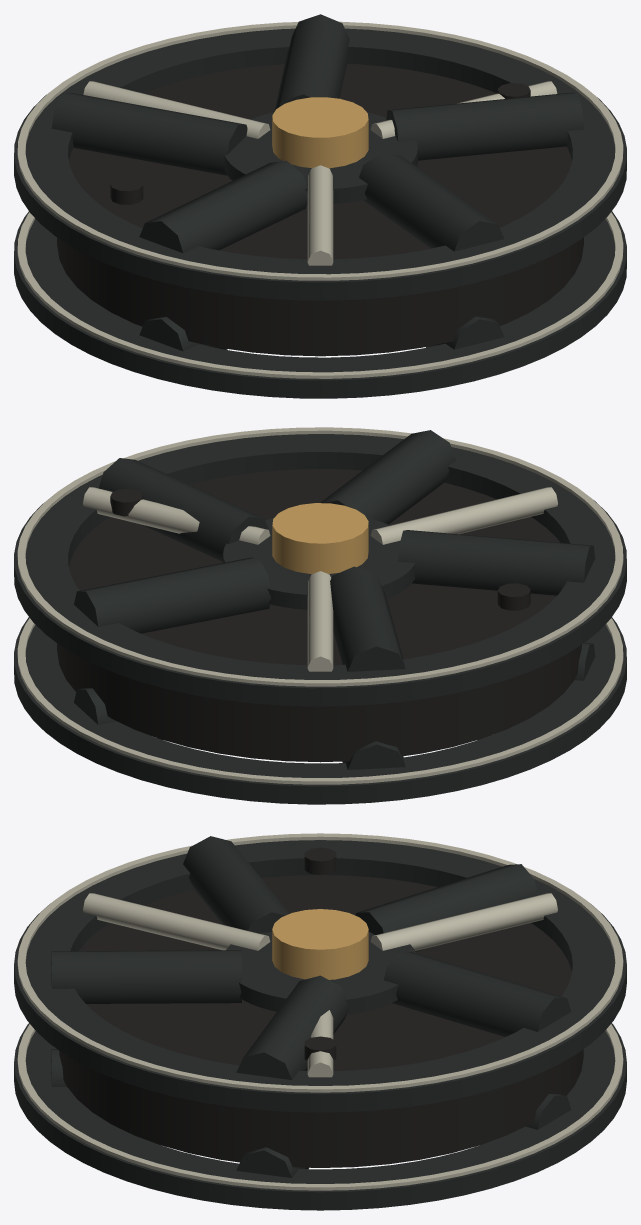
The model's file is Atelier.glb.
3 renders of one model, top to bottom at view 1: azimuth 30°, elevation 25°; view 2: azimuth 150°, elevation 25°; view 3: azimuth 270°, elevation 25°, orthographic.
Parts seen in each view (by area): view 1: Stamped outer rim (×2), Wound correction stock, Pressed web (×7), Pressed lip (×2), Spindle, Raised spoke (×3), Spool hub, Take-up pin; view 2: Stamped outer rim (×2), Wound correction stock, Pressed web (×7), Pressed lip (×2), Raised spoke (×3), Spindle, Spool hub, Take-up pin (×2); view 3: Stamped outer rim (×2), Wound correction stock, Pressed web (×7), Pressed lip (×2), Raised spoke (×3), Spindle, Spool hub, Take-up pin (×2).
Part boxes in pixels (bbox=[...]): Stamped outer rim (×2): bbox=[14, 28, 626, 398]; Wound correction stock: bbox=[57, 63, 583, 356]; Pressed web (×7): bbox=[51, 14, 584, 351]; Pressed lip (×2): bbox=[17, 21, 623, 378]; Spindle: bbox=[272, 97, 368, 168]; Raised spoke (×3): bbox=[83, 81, 557, 265]; Spool hub: bbox=[224, 112, 417, 203]; Take-up pin: bbox=[110, 177, 143, 204]; Stamped outer rim (×2): bbox=[14, 434, 626, 804]; Wound correction stock: bbox=[57, 469, 581, 762]; Pressed web (×7): bbox=[74, 430, 595, 769]; Pressed lip (×2): bbox=[17, 427, 623, 784]; Raised spoke (×3): bbox=[83, 487, 557, 671]; Spindle: bbox=[272, 503, 368, 573]; Spool hub: bbox=[223, 518, 415, 609]; Take-up pin (×2): bbox=[110, 489, 530, 610]; Stamped outer rim (×2): bbox=[14, 840, 626, 1210]; Wound correction stock: bbox=[59, 875, 583, 1167]; Pressed web (×7): bbox=[51, 836, 571, 1177]; Pressed lip (×2): bbox=[17, 833, 623, 1190]; Raised spoke (×3): bbox=[83, 893, 557, 1077]; Spindle: bbox=[272, 909, 368, 979]; Spool hub: bbox=[226, 931, 415, 1014]; Take-up pin (×2): bbox=[304, 847, 336, 1060].
Bounding box in the file's own units: 0.85 × 0.253 × 0.85.
